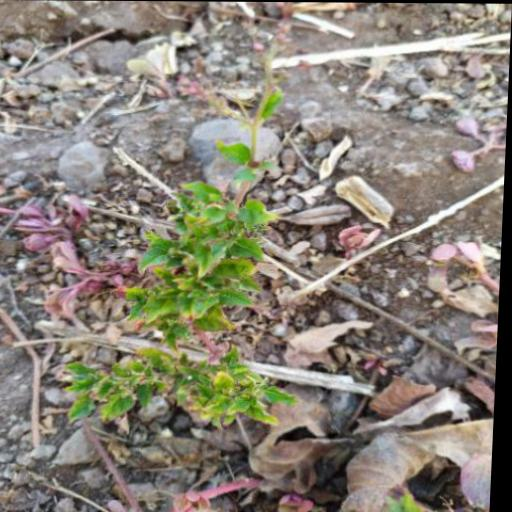weed: (56, 70, 313, 445)
